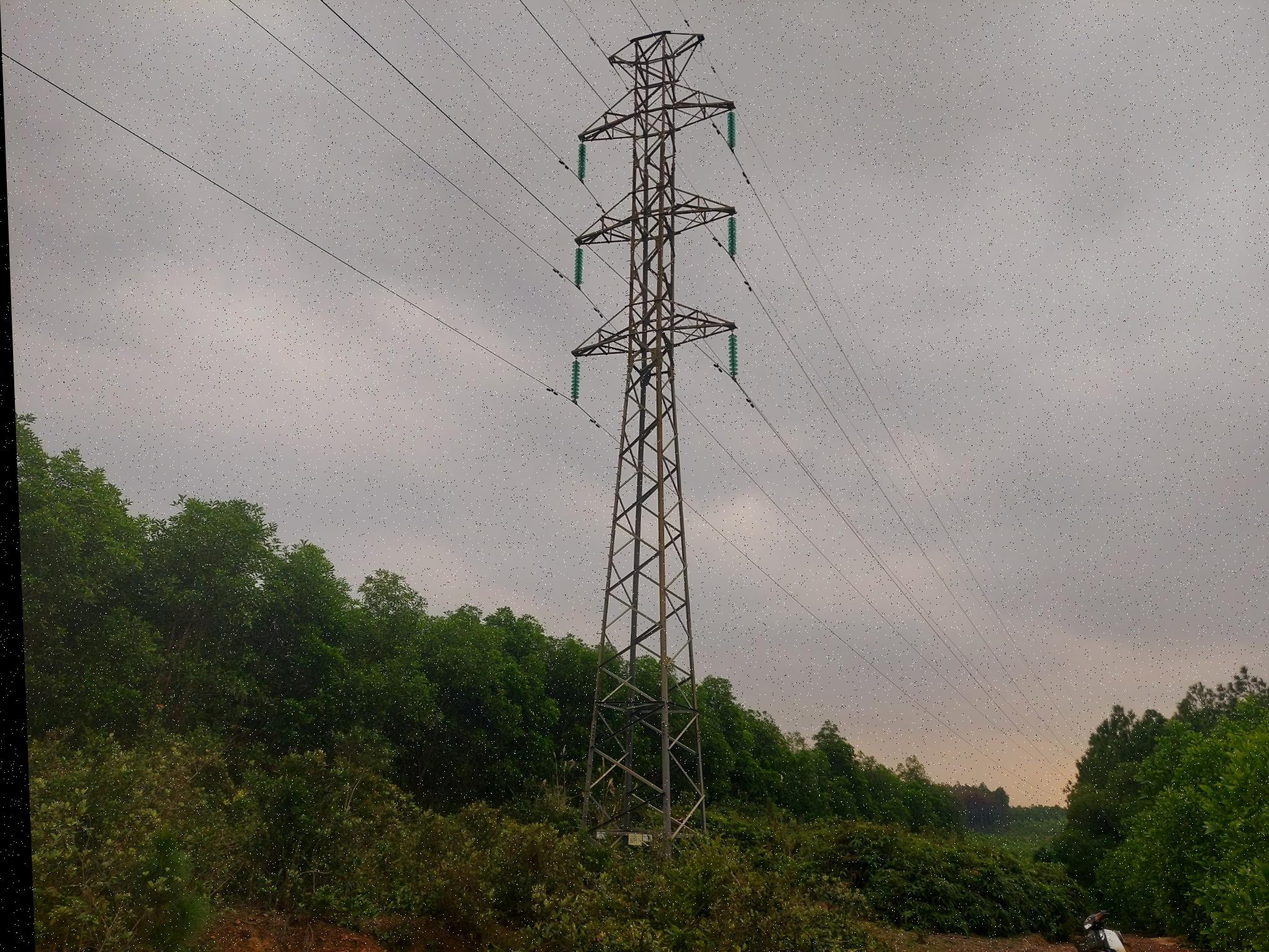tower: (534, 19, 771, 918)
